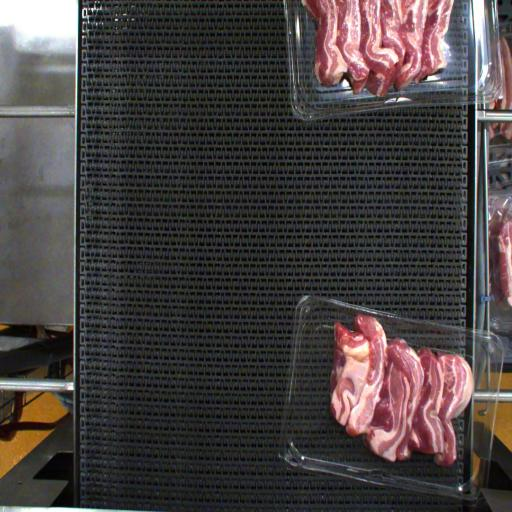packaging-error: (350, 298, 384, 326)
twisted-meat: (322, 319, 364, 426)
